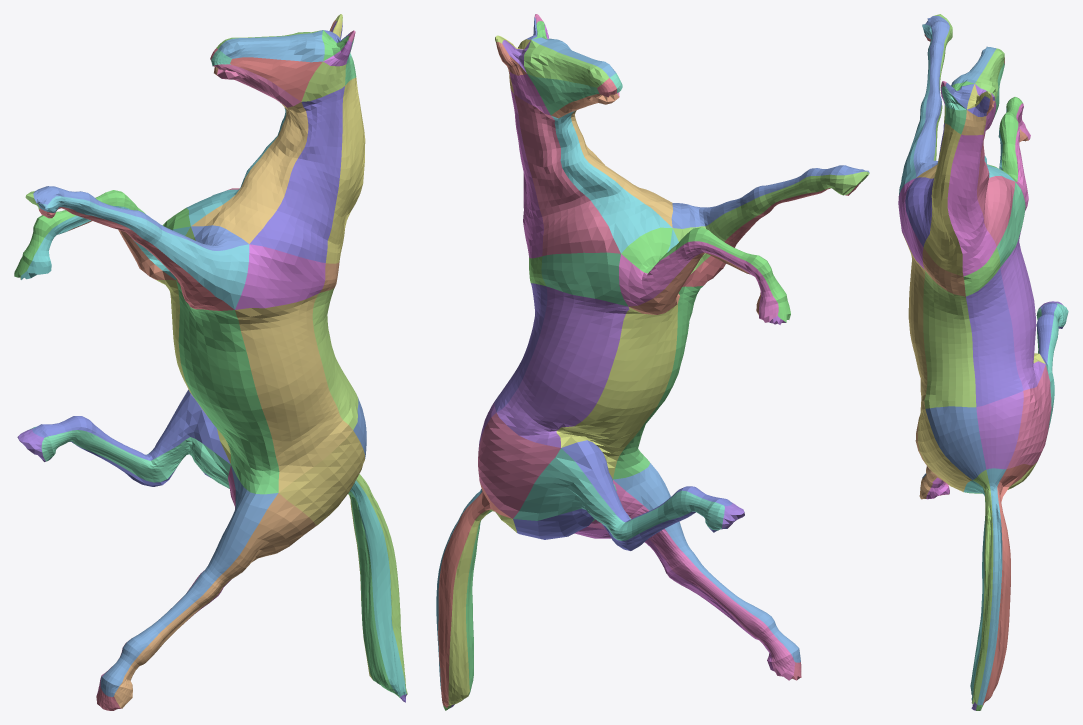
Rendered from horse04_output.obj.
3 renders of one model, left to right at view 1: azimuth 30°, elevation 25°; view 2: azimuth 150°, elevation 25°; view 3: azimuth 270°, elevation 25°, orthographic. The views are drawn at different scales.
Size of the model in its own units: 0.7619 by 1.27 by 0.3265.
